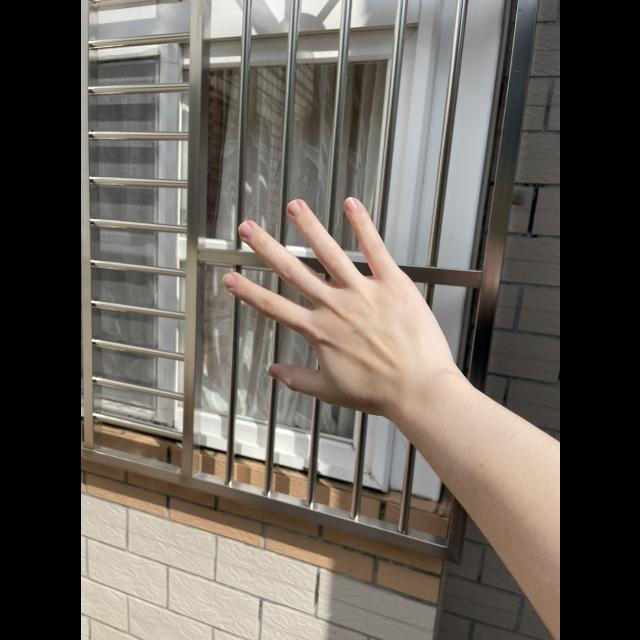bare_hand: (221, 194, 457, 410)
